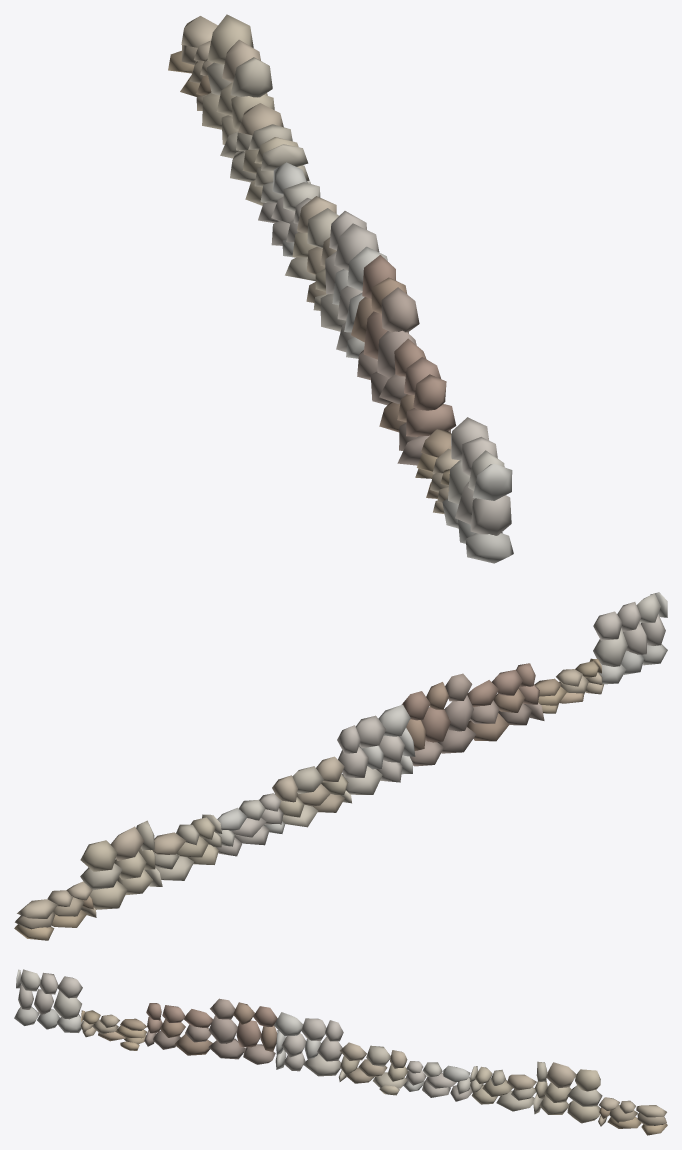
The model's file is farm_15_16_near.glb.
3 views of the same model, one above another, from view 1: azimuth 30°, elevation 25°; view 2: azimuth 150°, elevation 25°; view 3: azimuth 270°, elevation 25° (orthographic). The views are drawn at different scales.
Visible parts, largest first — view 1: geometry_0; view 2: geometry_0; view 3: geometry_0.
Part boxes in pixels (x1,y1,x2,y2): geometry_0: [168, 14, 513, 563]; geometry_0: [14, 592, 667, 940]; geometry_0: [14, 969, 667, 1135].
Bounding box in the file's own units: 5.08 × 2 × 14.87.
